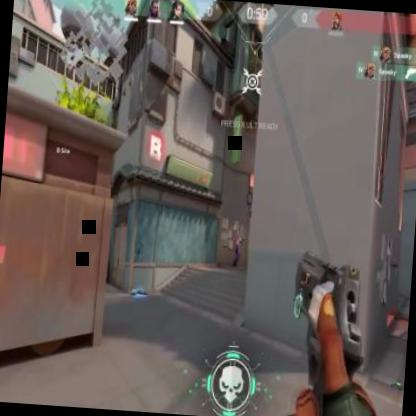enemy: (233, 232, 244, 268)
enemy_head: (236, 232, 240, 238)
